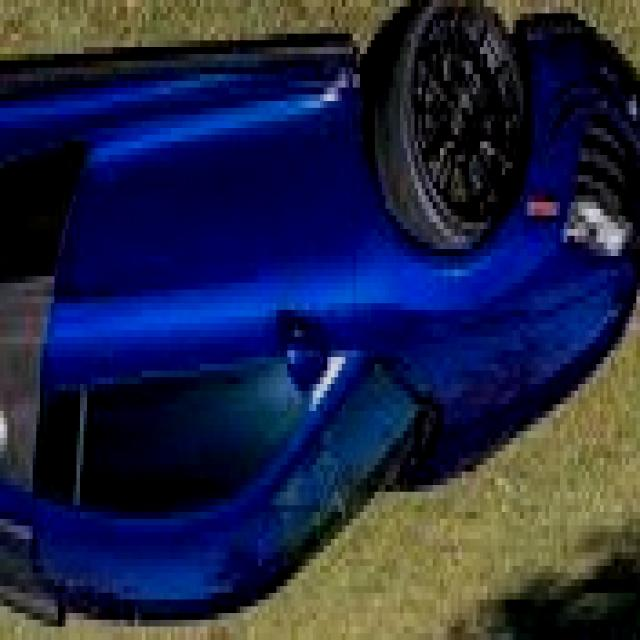blue: (0, 23, 640, 640)
